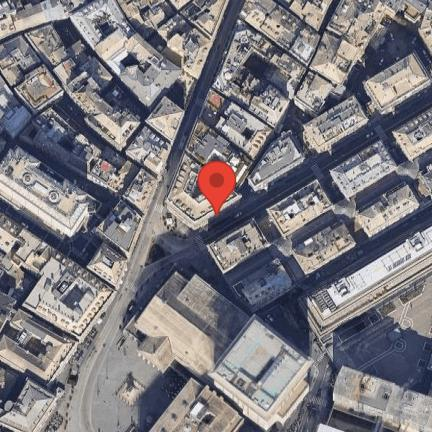area_open: (321, 268, 432, 394), (62, 335, 188, 432), (120, 211, 205, 324), (349, 15, 421, 88), (300, 341, 335, 429), (260, 290, 309, 351), (103, 82, 145, 118), (55, 95, 86, 128), (198, 92, 226, 124), (68, 233, 97, 262), (249, 51, 274, 84), (173, 75, 197, 107), (282, 107, 311, 133), (4, 371, 20, 401), (57, 20, 77, 43)
built: (123, 272, 314, 429), (299, 220, 432, 339), (293, 1, 430, 113), (0, 209, 115, 339), (68, 0, 184, 106), (20, 110, 140, 201), (213, 18, 307, 125), (53, 42, 142, 153), (0, 146, 102, 237), (317, 366, 431, 432), (161, 154, 243, 231), (0, 308, 77, 386), (237, 0, 323, 65), (145, 379, 243, 431), (186, 116, 253, 185), (363, 52, 431, 111), (330, 142, 398, 200), (303, 95, 367, 154), (0, 377, 68, 432), (270, 180, 334, 236), (355, 182, 420, 237), (291, 219, 357, 273), (247, 131, 305, 191), (207, 217, 269, 273), (214, 102, 272, 158), (0, 0, 87, 35), (236, 259, 294, 310), (98, 200, 141, 255), (393, 102, 432, 160), (168, 0, 227, 38), (16, 65, 64, 111), (125, 127, 170, 176), (0, 35, 43, 86), (118, 0, 174, 37), (25, 21, 69, 68), (0, 76, 31, 136), (146, 97, 186, 141), (88, 244, 127, 289), (277, 0, 332, 31), (123, 169, 158, 213), (183, 29, 212, 81), (156, 20, 185, 67), (419, 1, 432, 54), (0, 290, 16, 333), (416, 164, 432, 199)
